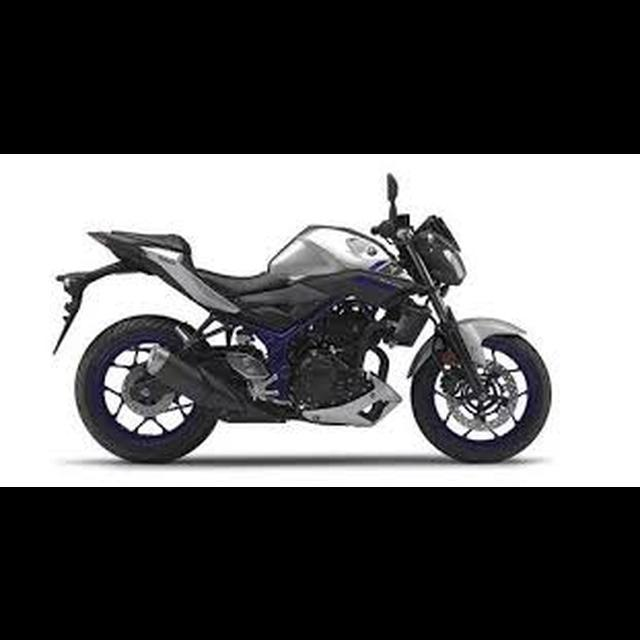motorcycle: (45, 165, 556, 469)
